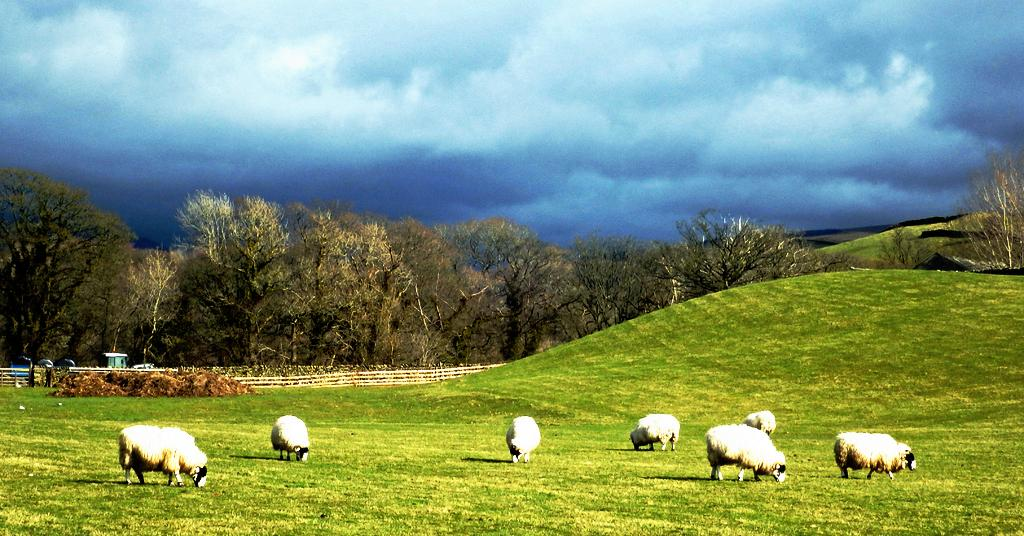Sheep: (116, 422, 206, 486), (706, 424, 788, 485), (832, 433, 918, 479), (630, 410, 678, 450), (505, 416, 543, 463), (268, 412, 306, 458), (741, 410, 780, 434)
